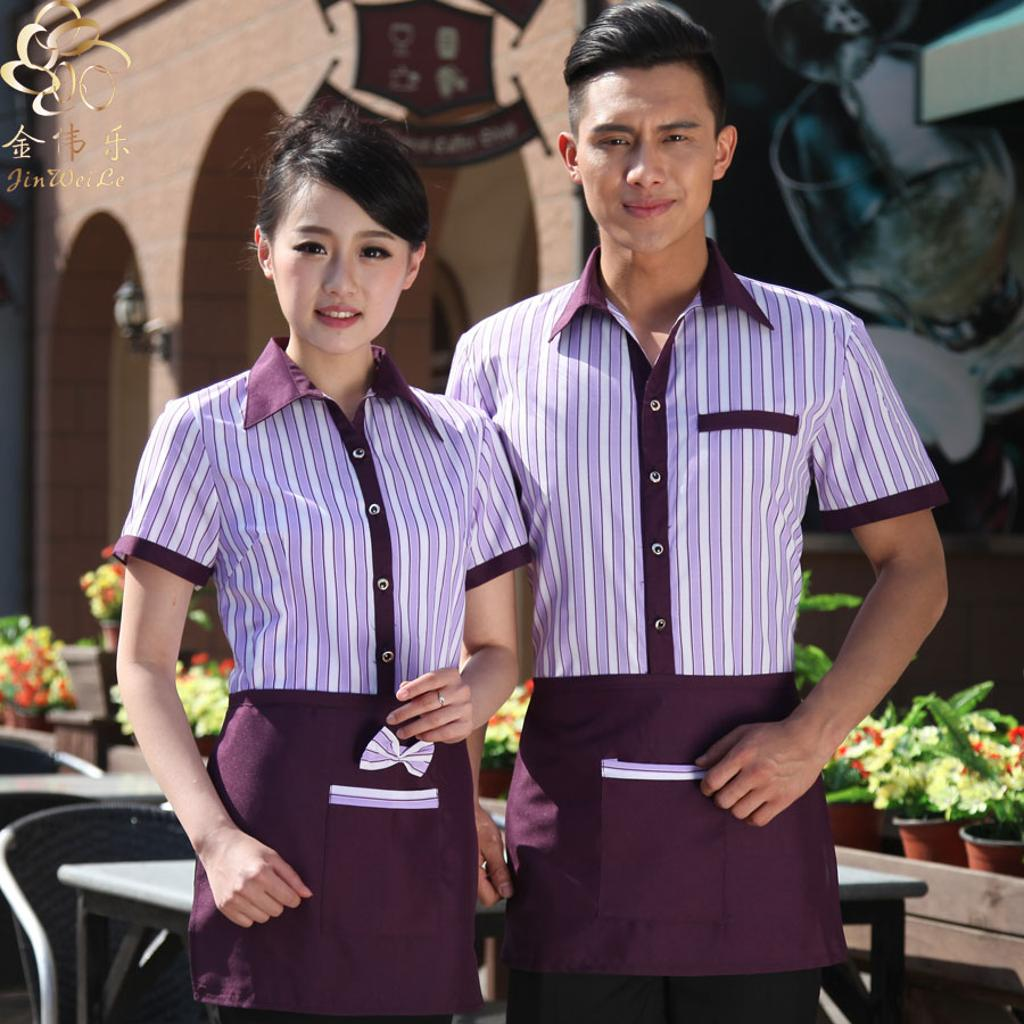face: (576, 68, 714, 252), (278, 178, 410, 352)
